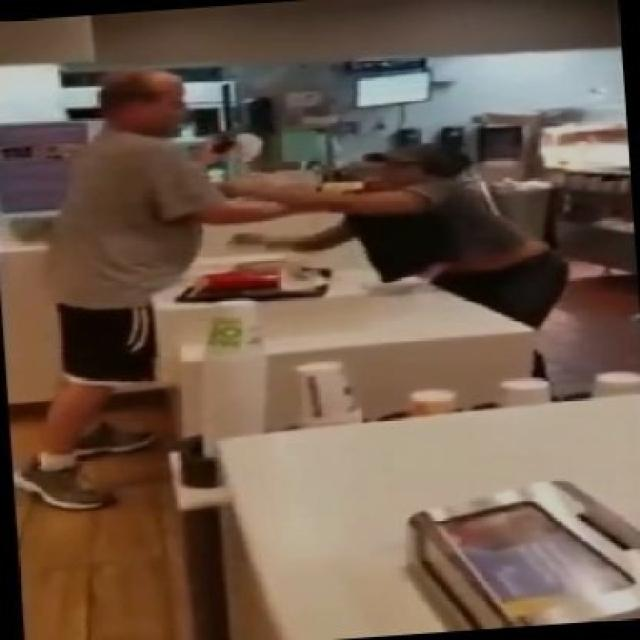fight: (8, 68, 578, 522)
